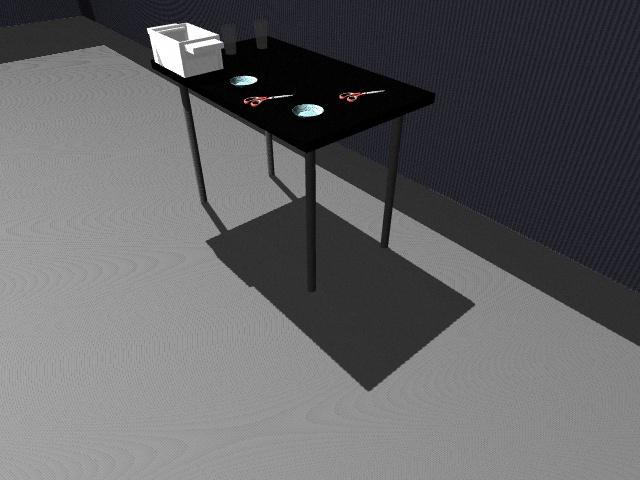cup: (220, 23, 237, 55), (254, 19, 269, 50)
plate: (291, 103, 325, 117), (229, 75, 258, 86)
scissors: (244, 94, 292, 107), (340, 90, 384, 102), (244, 96, 264, 105)
